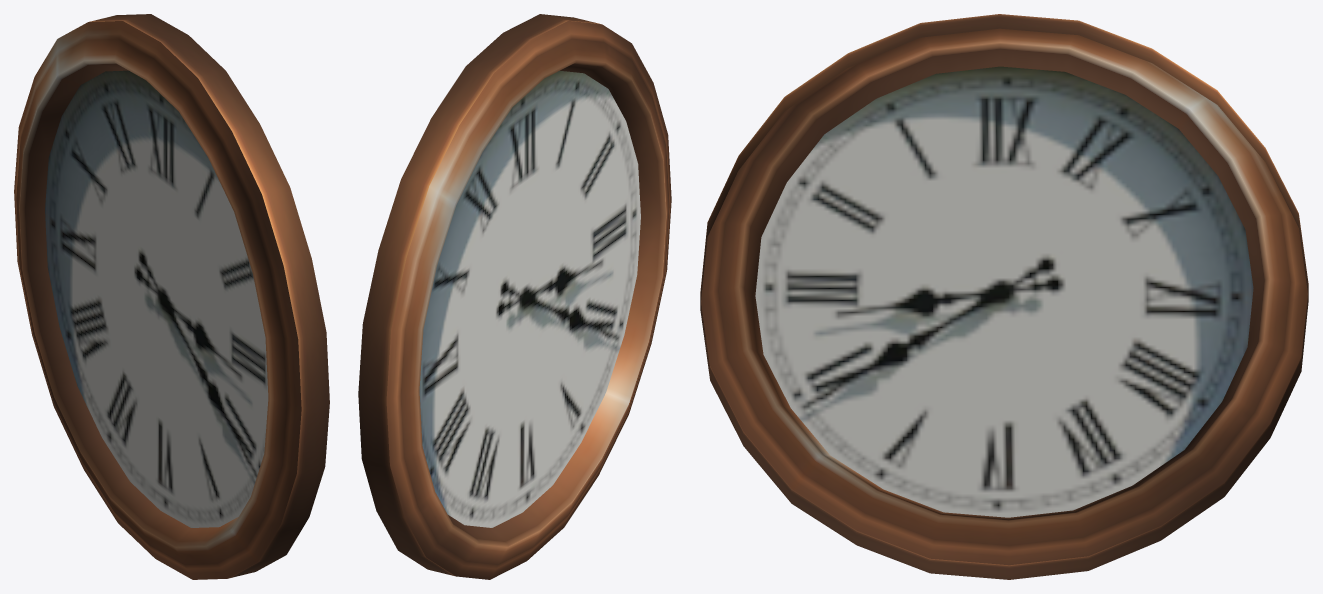
The model's file is G_SiZheBingFang_01_Biao_01.FBX.
3 renders of one model, left to right at view 1: azimuth 30°, elevation 25°; view 2: azimuth 150°, elevation 25°; view 3: azimuth 270°, elevation 25°, orthographic. The views are drawn at different scales.
Visible parts, largest first — view 1: SiZheBingFang_guazhong_01; view 2: SiZheBingFang_guazhong_01; view 3: SiZheBingFang_guazhong_01.
Part boxes in pixels (x1,y1,x2,y2): SiZheBingFang_guazhong_01: [14, 14, 329, 579]; SiZheBingFang_guazhong_01: [358, 14, 671, 579]; SiZheBingFang_guazhong_01: [700, 14, 1308, 579].
Size of the model in its own units: 4.26 by 49.55 by 49.55.
Materials: 1 (1 with a texture image).
